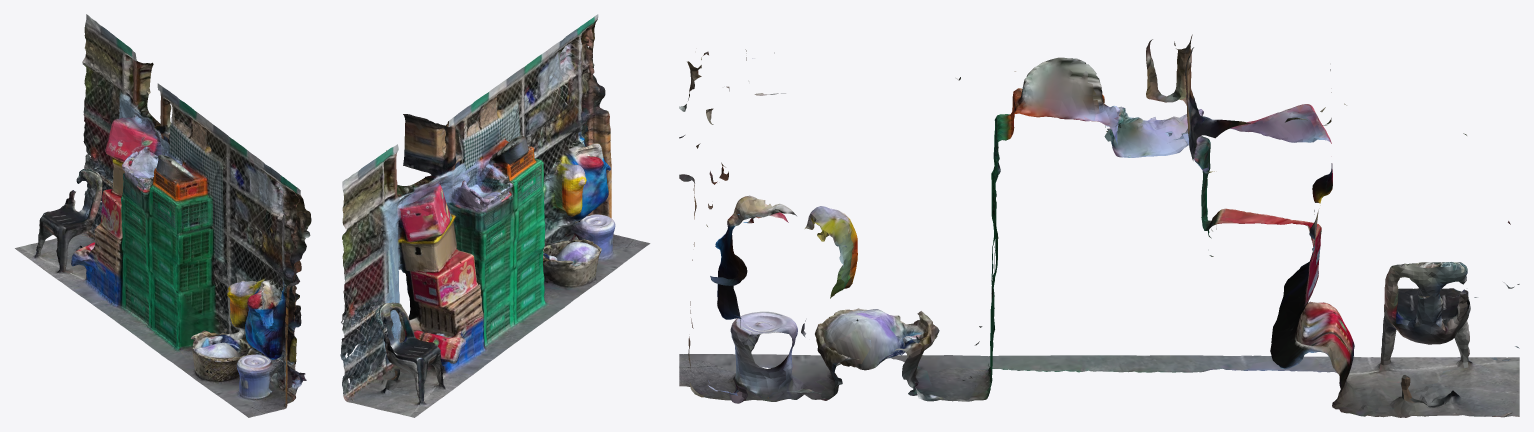
File: crates.glb
3 renders of one model, left to right at view 1: azimuth 30°, elevation 25°; view 2: azimuth 150°, elevation 25°; view 3: azimuth 270°, elevation 25°, orthographic. The views are drawn at different scales.
Visible parts, largest first — view 1: crates_000; view 2: crates_000; view 3: crates_000.
Part boxes in pixels (x1,y1,x2,y2): crates_000: [15, 14, 311, 417]; crates_000: [340, 14, 650, 417]; crates_000: [679, 34, 1519, 417].
Size of the model in its own units: 1.02 by 2.1 by 4.05.
1 material, 1 textured.
